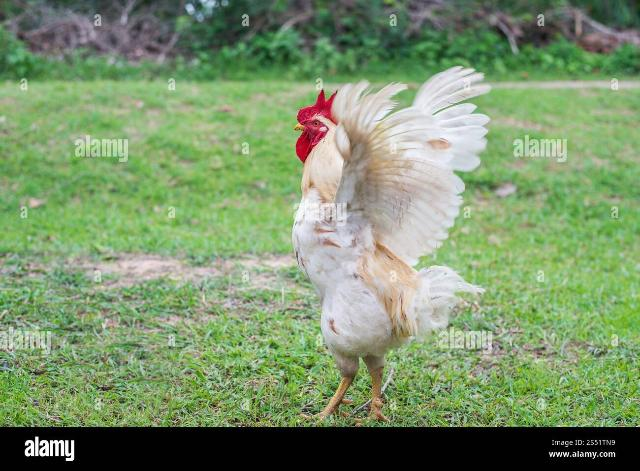Chicken: (292, 67, 491, 425)
